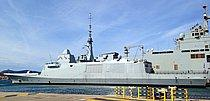MIL_Ship: (1, 23, 207, 85)
